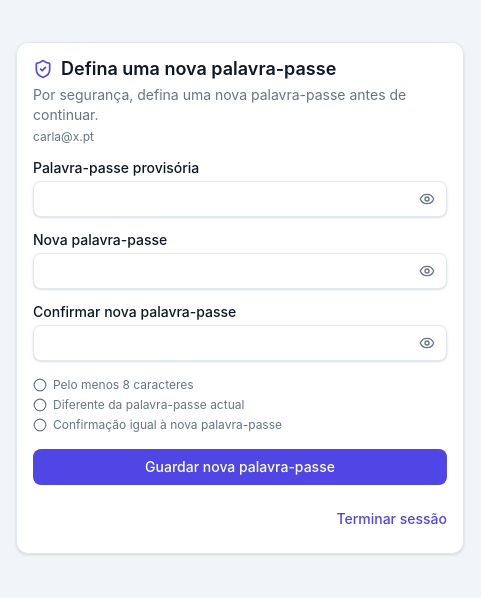
Scenario: ChangePasswordPage (obrigatória) › mostra/oculta e valida no cliente (diferente da actual, confirmação igual)
The image size is (481, 598).
Click the button named "Mostrar nova palavra-passe". click: (427, 271)
box: [407,253,447,289]
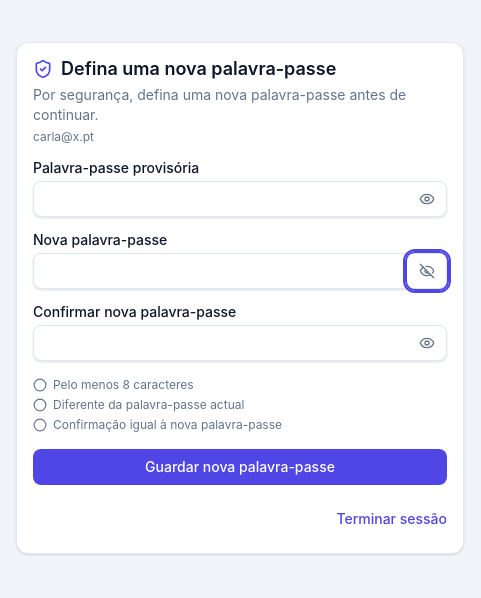
Result: the button named "Ocultar nova palavra-passe" is pressed at [407,253,447,289]
Type "provisoria1" into the password field labelled "Palavra-passe provisória". click: (240, 199)
box: [33,181,447,217]
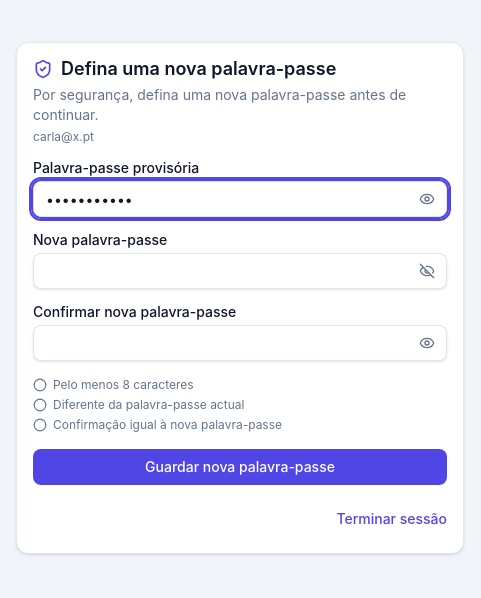
Type "provisoria1" into the field labelled "Nova palavra-passe". click: (240, 271)
box: [33,253,447,289]
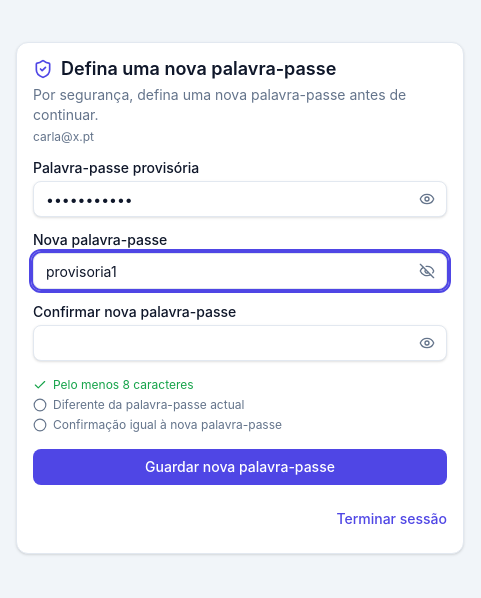
Type "outra" into the password field labelled "Confirmar nova palavra-passe". click: (240, 343)
box: [33,325,447,361]
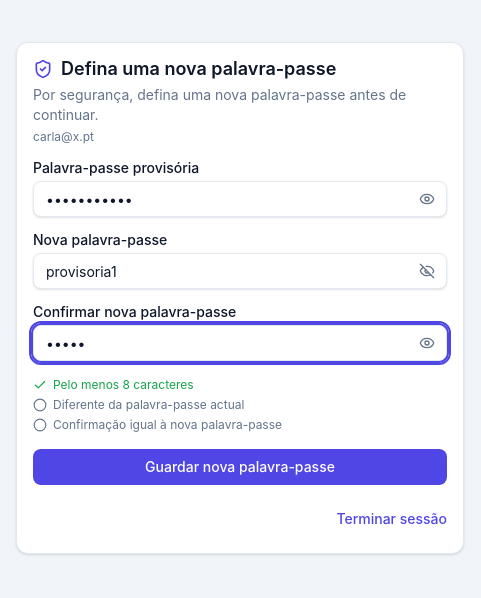
Click the button "Guardar nova palavra-passe". click: (240, 467)
box: [33,449,447,485]
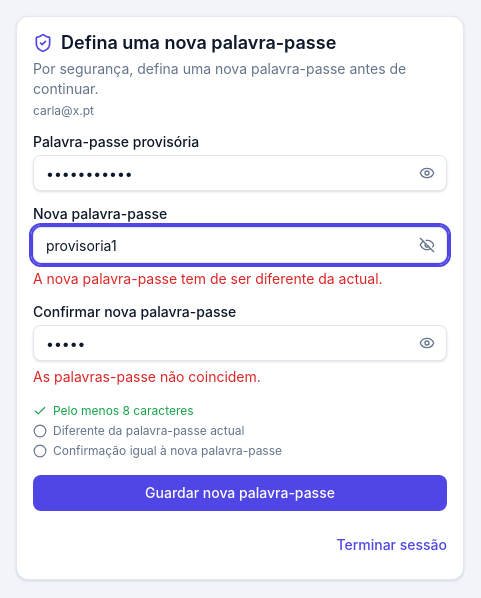
Result: the text "A nova palavra-passe tem de ser diferente da actual." is shown at [33,270,383,287]
Result: the text "As palavras-passe não coincidem." is shown at [33,368,261,385]
